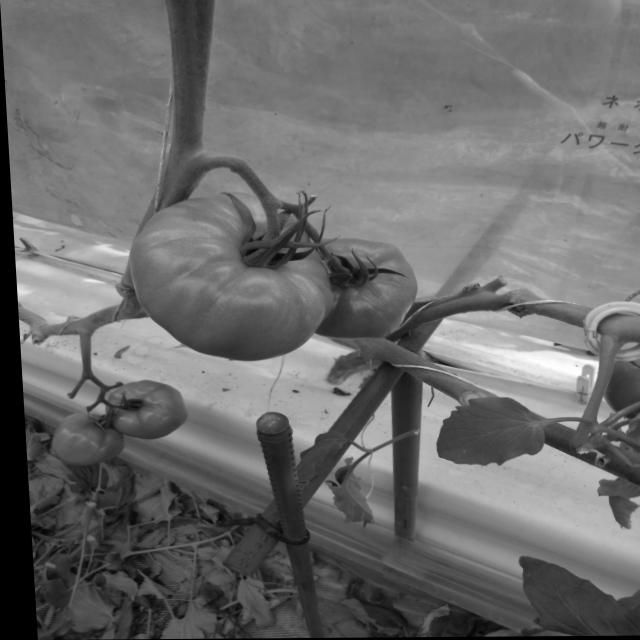yesil: (61, 170, 503, 401)
